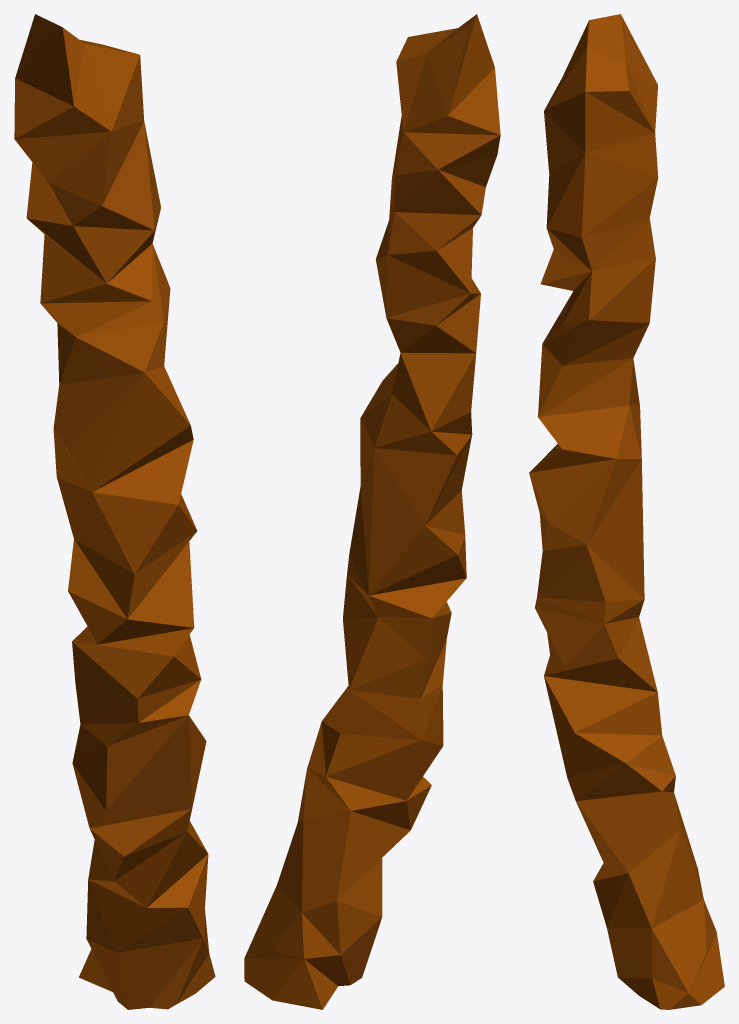
File: Vegetation_Modular_New_Tree_Trunk_Palm_04.FBX
The picture shows the model from 3 angles, left to right: view 1: azimuth 30°, elevation 25°; view 2: azimuth 150°, elevation 25°; view 3: azimuth 270°, elevation 25°; orthographic projection. The views are drawn at different scales.
Visible parts, largest first — view 1: Vegetation_Modular_New_Tree_Trunk_Palm_04; view 2: Vegetation_Modular_New_Tree_Trunk_Palm_04; view 3: Vegetation_Modular_New_Tree_Trunk_Palm_04.
Part boxes in pixels (x1,y1,x2,y2): Vegetation_Modular_New_Tree_Trunk_Palm_04: [14, 14, 215, 1009]; Vegetation_Modular_New_Tree_Trunk_Palm_04: [244, 14, 500, 1009]; Vegetation_Modular_New_Tree_Trunk_Palm_04: [529, 14, 724, 1009].
Size of the model in its own units: 982 by 4178 by 817.
